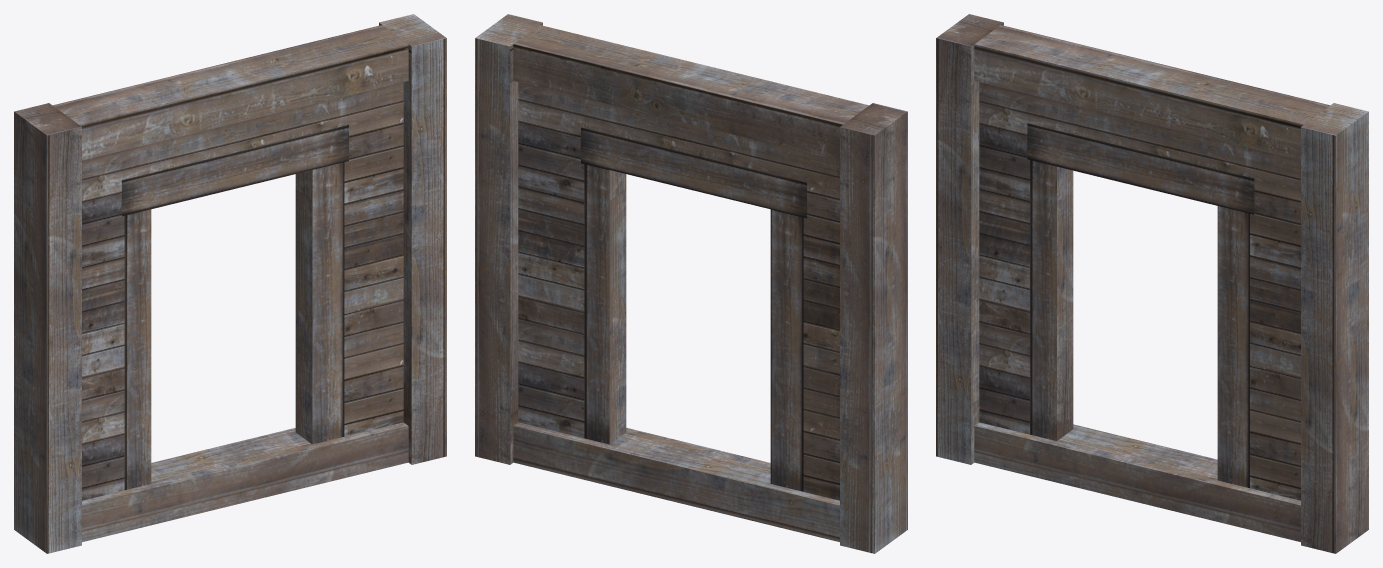
Rendered from wall_door.FBX.
3 views of the same model, side by side, from view 1: azimuth 30°, elevation 25°; view 2: azimuth 150°, elevation 25°; view 3: azimuth 330°, elevation 25° (orthographic).
Visible parts, largest first — view 1: Box007; view 2: Box007; view 3: Box007.
Boxes of the visible parts, x1,y1,x2,y2 form: Box007: (14, 14, 446, 553); Box007: (475, 14, 907, 553); Box007: (936, 14, 1368, 553).
Size of the model in its own units: 140 by 140 by 20.
Materials: 1 (1 with a texture image).
